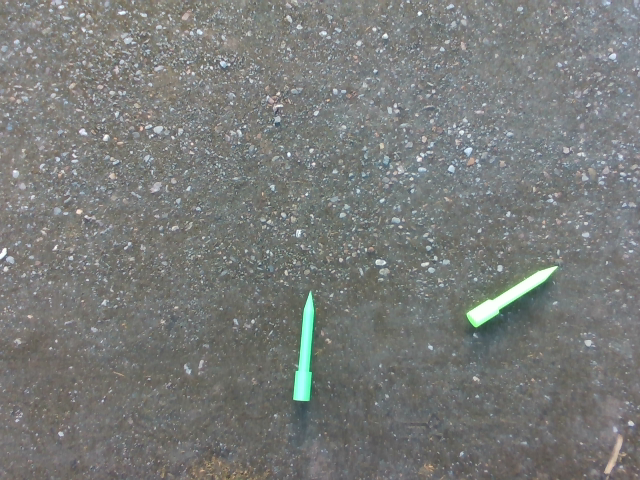Probe: (461, 260, 565, 336), (289, 287, 325, 409)
